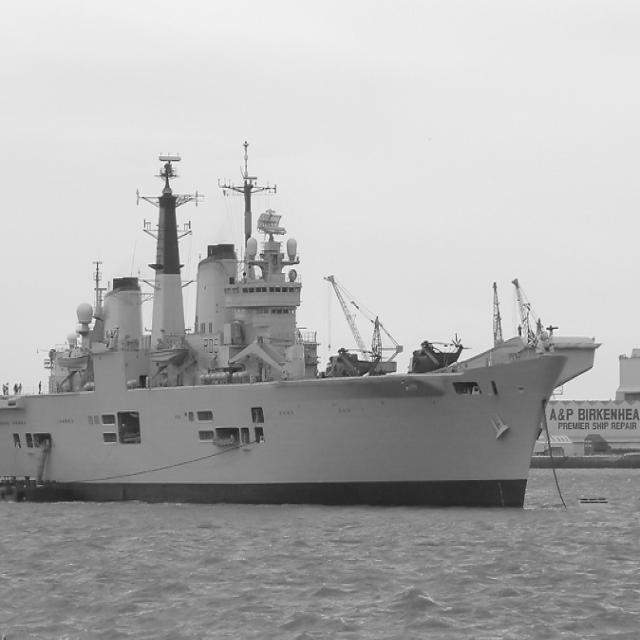Portanaves: (1, 132, 603, 519)
